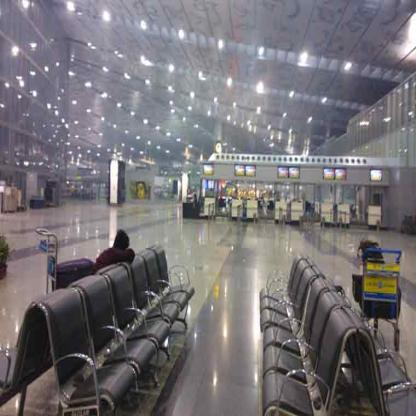airport-trolley: (358, 241, 405, 350), (37, 227, 63, 296)
